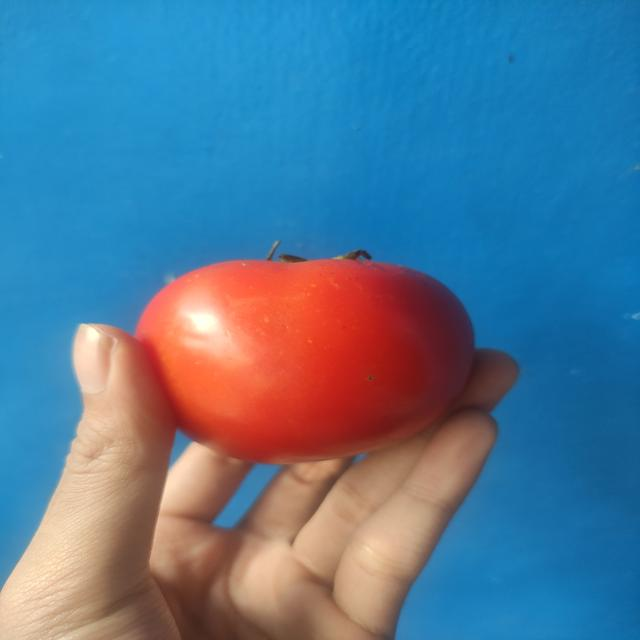ripe tomato: (130, 233, 482, 465)
